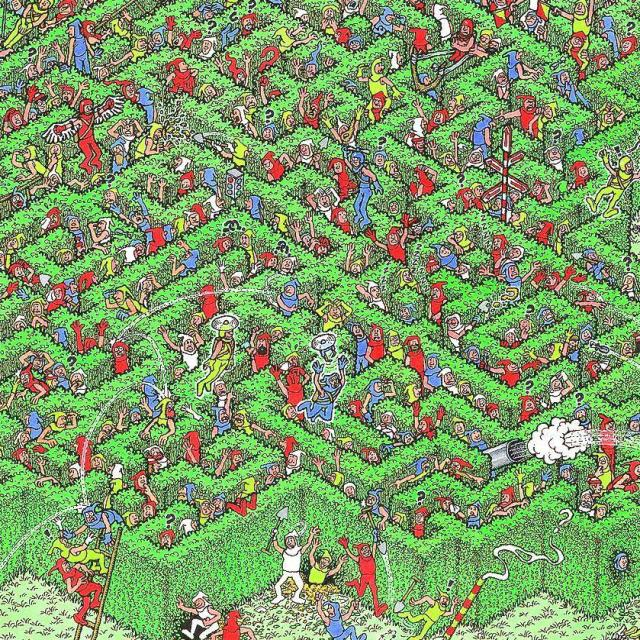waldo: (34, 92, 48, 113)
